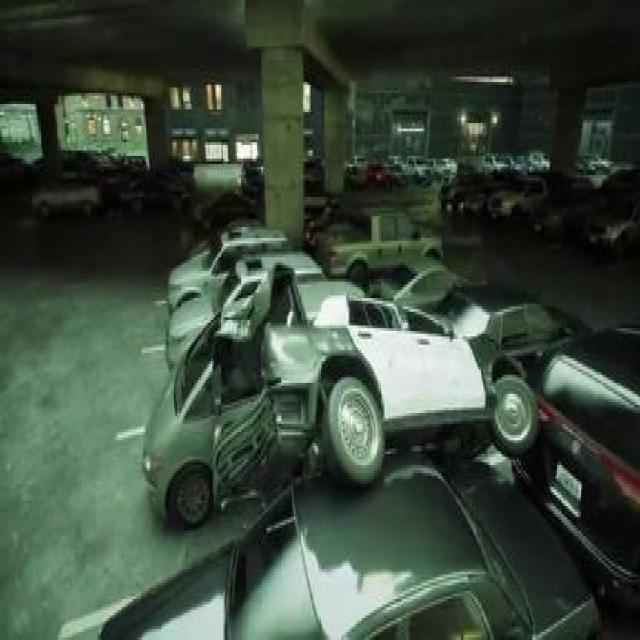accident: (92, 276, 603, 640)
